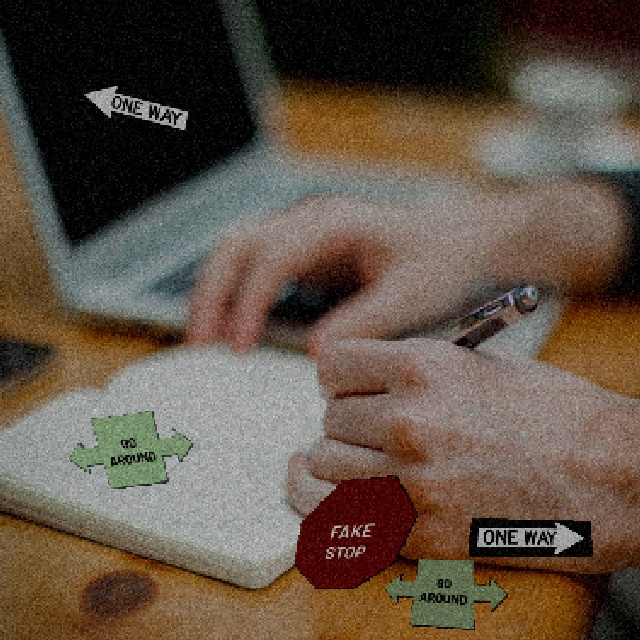FAKE_STOP: (292, 473, 417, 588)
GO_AROUND: (67, 409, 192, 488), (382, 557, 507, 629)
ONE_WAY_ left: (71, 74, 196, 140)
ONE_WAY_ right: (466, 516, 591, 556)
